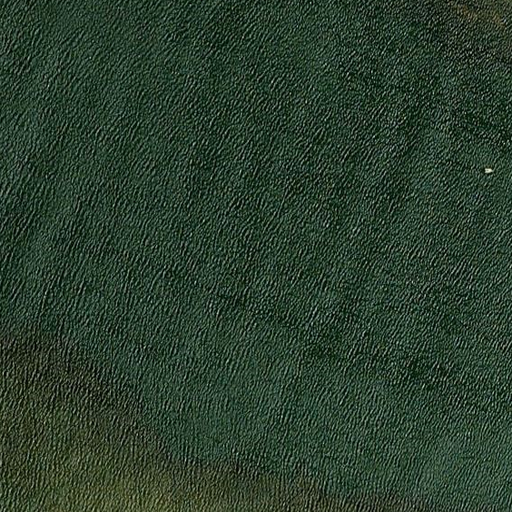ship: (481, 165, 494, 175)
